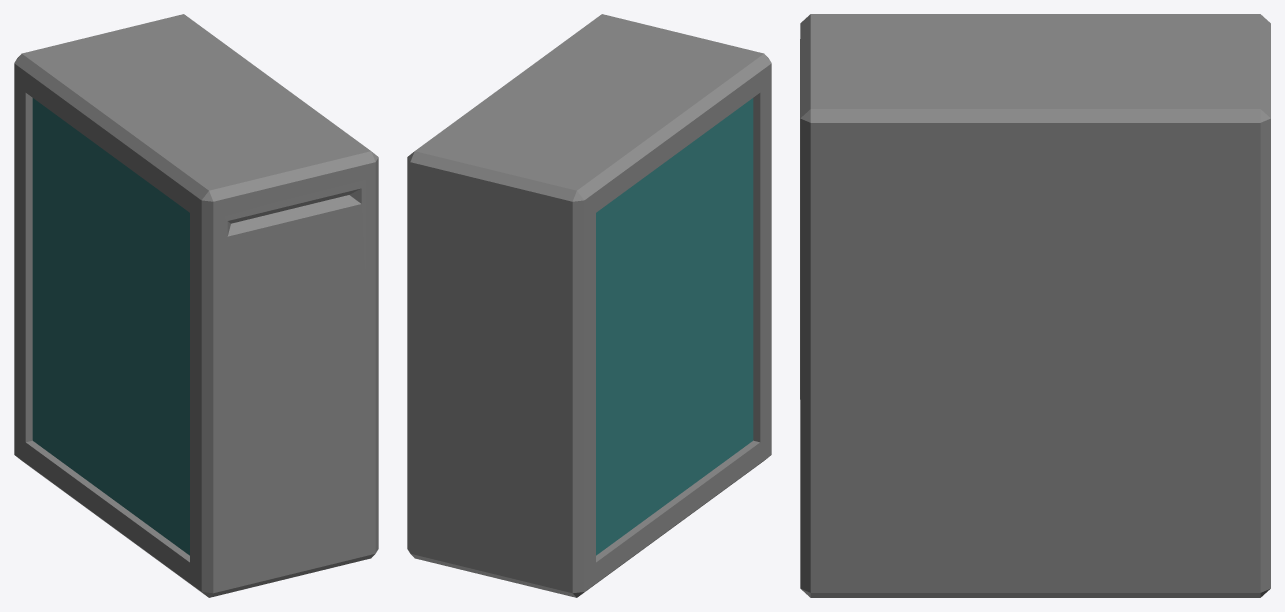
3 renders of one model, left to right at view 1: azimuth 30°, elevation 25°; view 2: azimuth 150°, elevation 25°; view 3: azimuth 270°, elevation 25°, orthographic. The views are drawn at different scales.
Visible parts, largest first — view 1: PC; view 2: PC; view 3: PC.
Part boxes in pixels (x1,y1,x2,y2): PC: [14, 14, 378, 597]; PC: [407, 14, 771, 597]; PC: [800, 14, 1270, 597].
Size of the model in its own units: 1.73 by 3.8 by 3.32.
